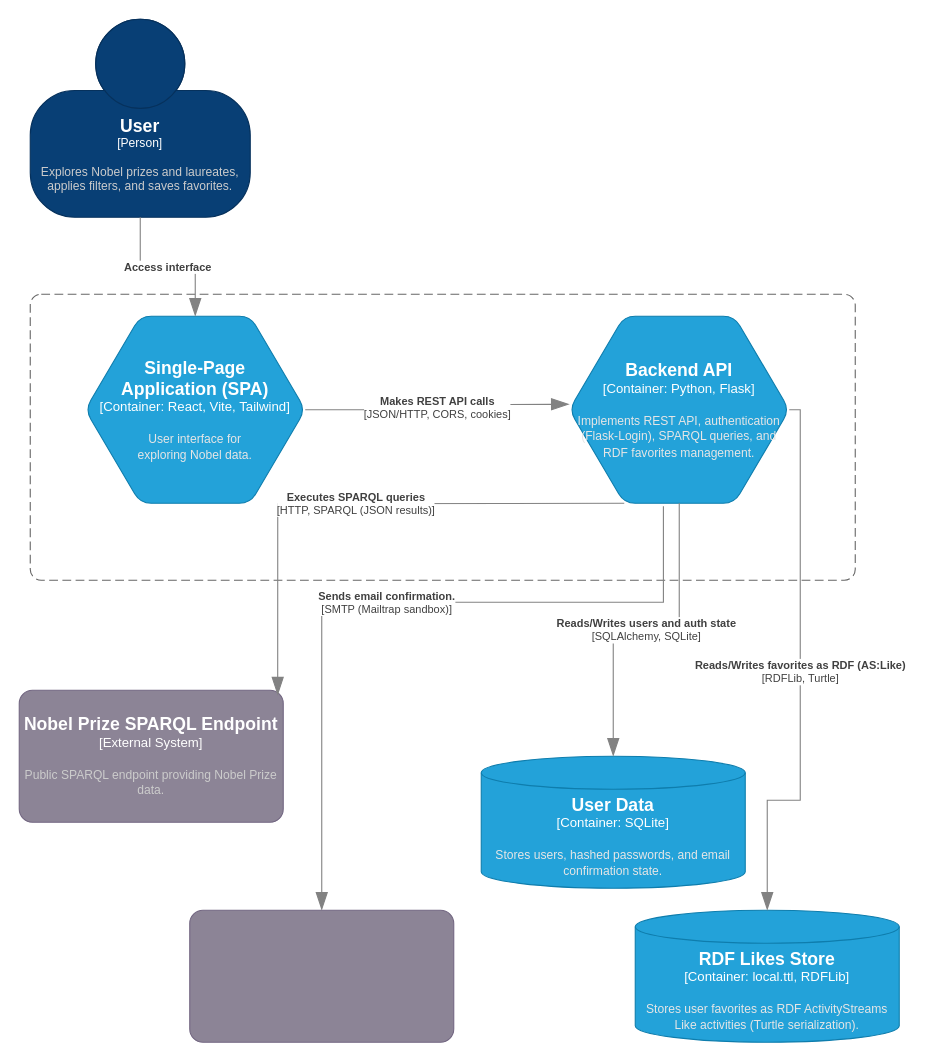
The diagram is 925 pixels wide and 1062 high, and some of its shapes have lost their labels. The box of each missing label's shape, as (x1, y1, x2, y2) in pixels:
Mailtrap SMTP [External System] Sends confirmation emails: (189, 909, 454, 1042)
Nobel Prize Explorer [Software System]: (29, 293, 855, 580)
